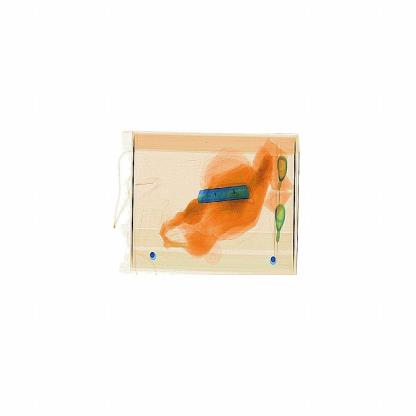pliers: (183, 180, 256, 214)
